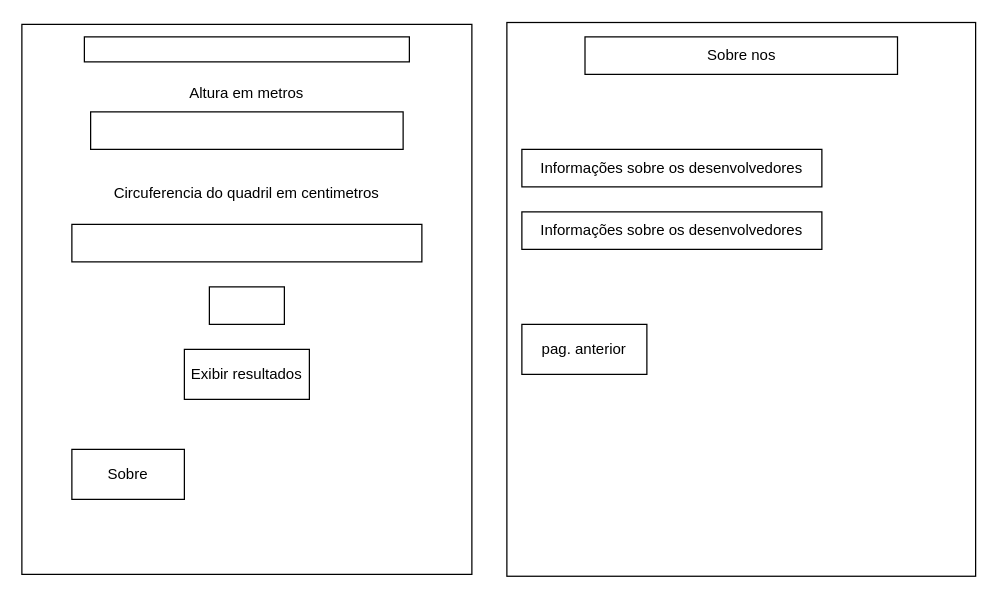
This 998x598 diagram has some shape labels left out. The centre of each missing label's shape, as x and y in pixels:
Calcular: pixel 246 305
Calculo de indice de adiposidade corporal (IAC): pixel 246 49
